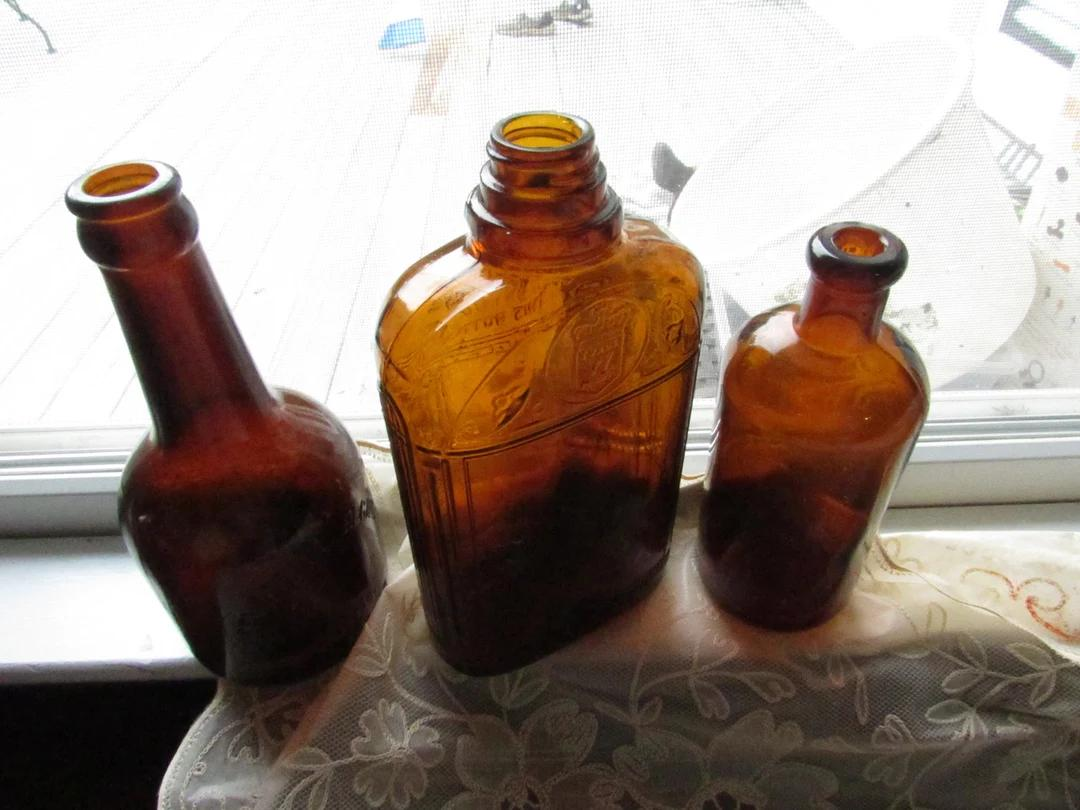glass: (57, 164, 388, 675), (389, 123, 698, 665), (704, 219, 929, 646)
